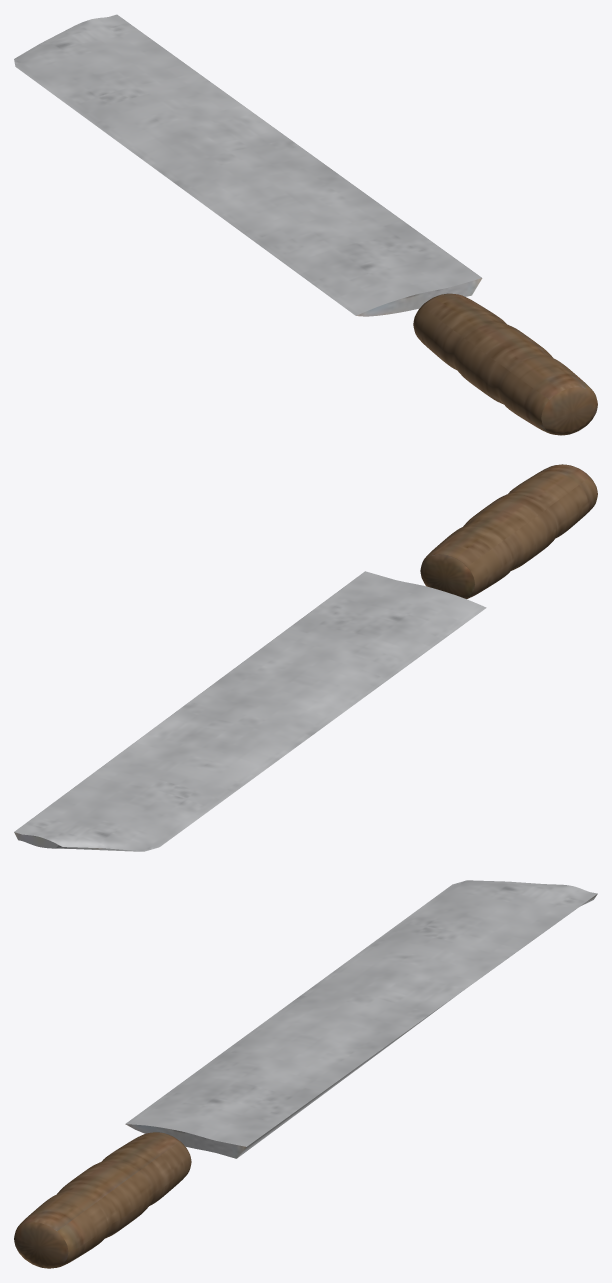
File: cleaver.glb
3 views of the same model, one above another, from view 1: azimuth 30°, elevation 25°; view 2: azimuth 150°, elevation 25°; view 3: azimuth 330°, elevation 25° (orthographic). The views are drawn at different scales.
Parts seen in each view (by area): view 1: cleaver; view 2: cleaver; view 3: cleaver.
Part boxes in pixels (x1,y1,x2,y2): cleaver: (14,14,597,435); cleaver: (14,464,597,851); cleaver: (14,880,597,1268).
Bounding box in the file's own units: 0.06 × 0.0258 × 0.4259.
Materials: 1 (1 with a texture image).
